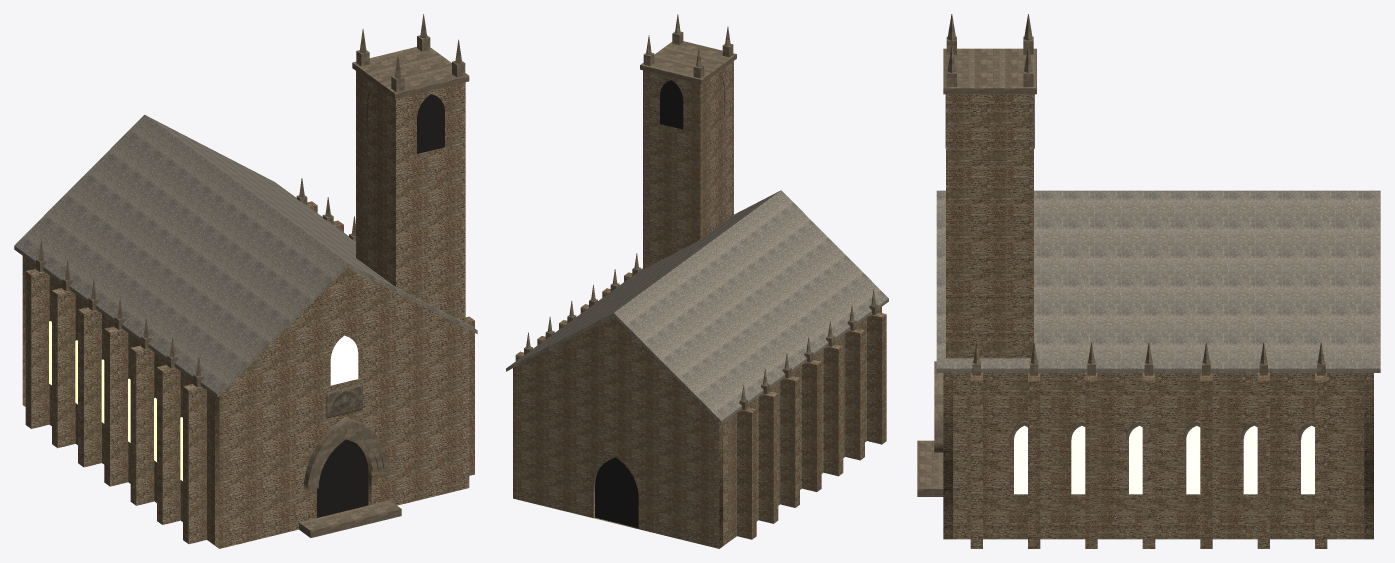
File: high-tower.glb
The picture shows the model from 3 angles, left to right: view 1: azimuth 30°, elevation 25°; view 2: azimuth 150°, elevation 25°; view 3: azimuth 270°, elevation 25°; orthographic projection. The views are drawn at different scales.
Parts seen in each view (by area): view 1: immanuel_wall, immanuel_roof, immanuel_trim, immanuel_shadow, immanuel_glass, merged_immanuel_relief_gothic-tympanum; view 2: immanuel_wall, immanuel_roof, immanuel_trim, immanuel_shadow; view 3: immanuel_wall, immanuel_roof, immanuel_trim, immanuel_glass.
Part boxes in pixels (x1=…): immanuel_wall: x1=22, y1=71, x2=474, y2=548; immanuel_roof: x1=14, y1=114, x2=477, y2=397; immanuel_trim: x1=36, y1=14, x2=469, y2=537; immanuel_shadow: x1=317, y1=89, x2=444, y2=517; immanuel_glass: x1=49, y1=321, x2=358, y2=480; merged_immanuel_relief_gothic-tympanum: x1=326, y1=384, x2=362, y2=418; immanuel_wall: x1=513, y1=61, x2=886, y2=548; immanuel_roof: x1=506, y1=190, x2=888, y2=423; immanuel_trim: x1=524, y1=14, x2=878, y2=410; immanuel_shadow: x1=595, y1=76, x2=724, y2=528; immanuel_wall: x1=943, y1=94, x2=1373, y2=548; immanuel_roof: x1=936, y1=190, x2=1380, y2=372; immanuel_trim: x1=917, y1=14, x2=1325, y2=496; immanuel_glass: x1=1014, y1=425, x2=1314, y2=494.
Bounding box in the file's own units: 18.9 × 28.22 × 24.2.
Materials: 8 (5 with a texture image).
